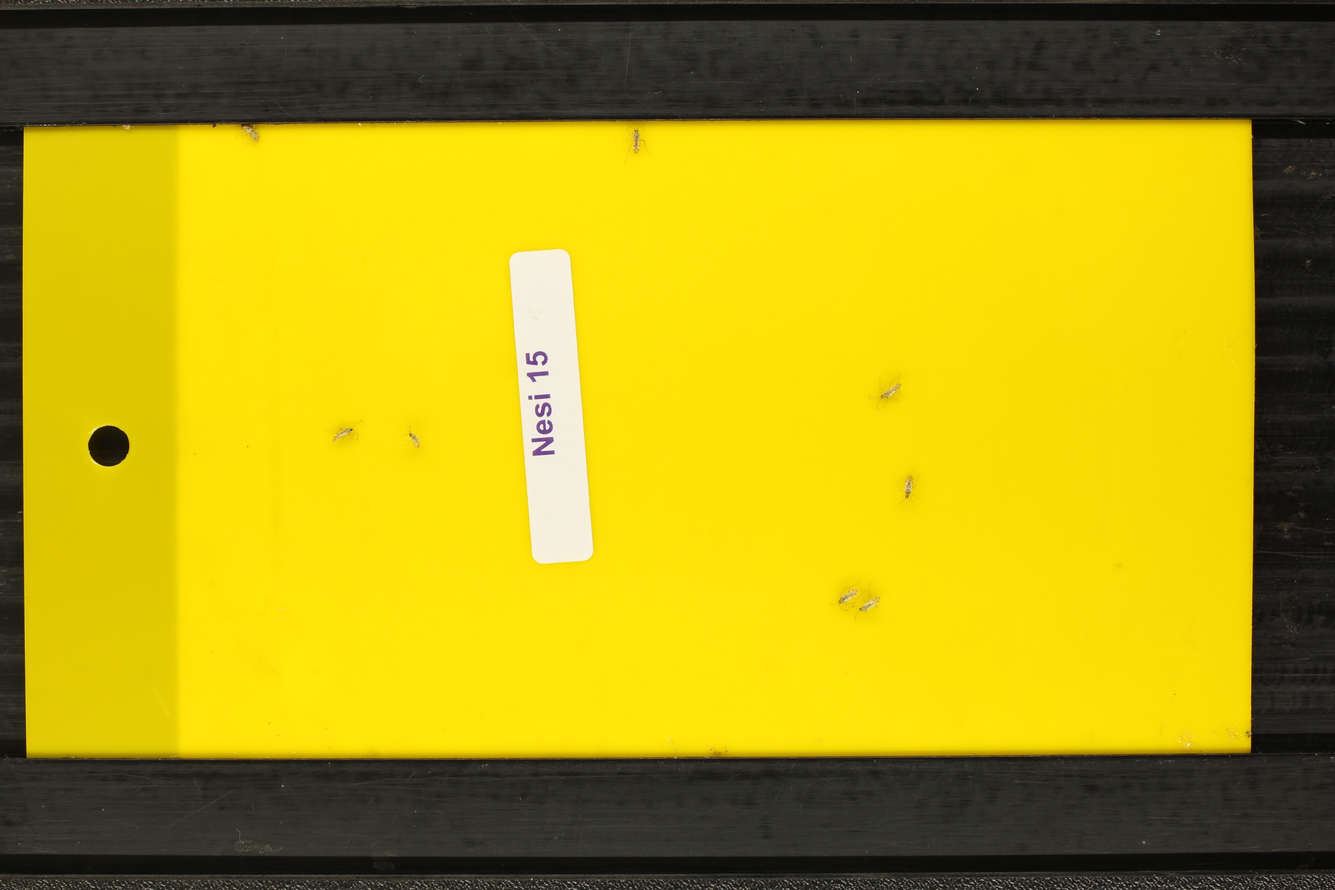NC: (864, 372, 913, 415), (618, 118, 653, 161), (890, 466, 924, 510), (322, 417, 369, 446), (230, 123, 270, 151), (827, 581, 863, 611), (853, 592, 883, 623), (397, 422, 423, 451)
